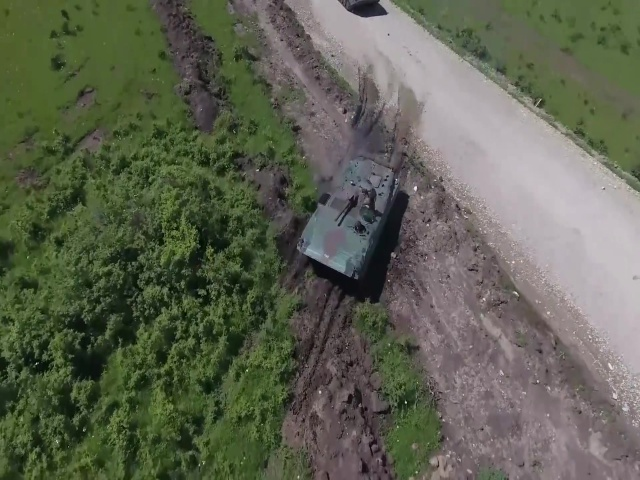vehicle: (297, 156, 400, 283)
